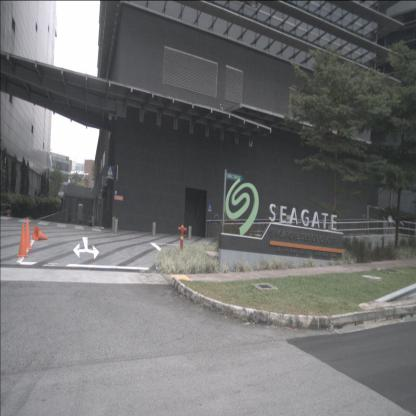cone: (16, 224, 28, 258), (22, 218, 32, 252), (32, 226, 48, 241)
